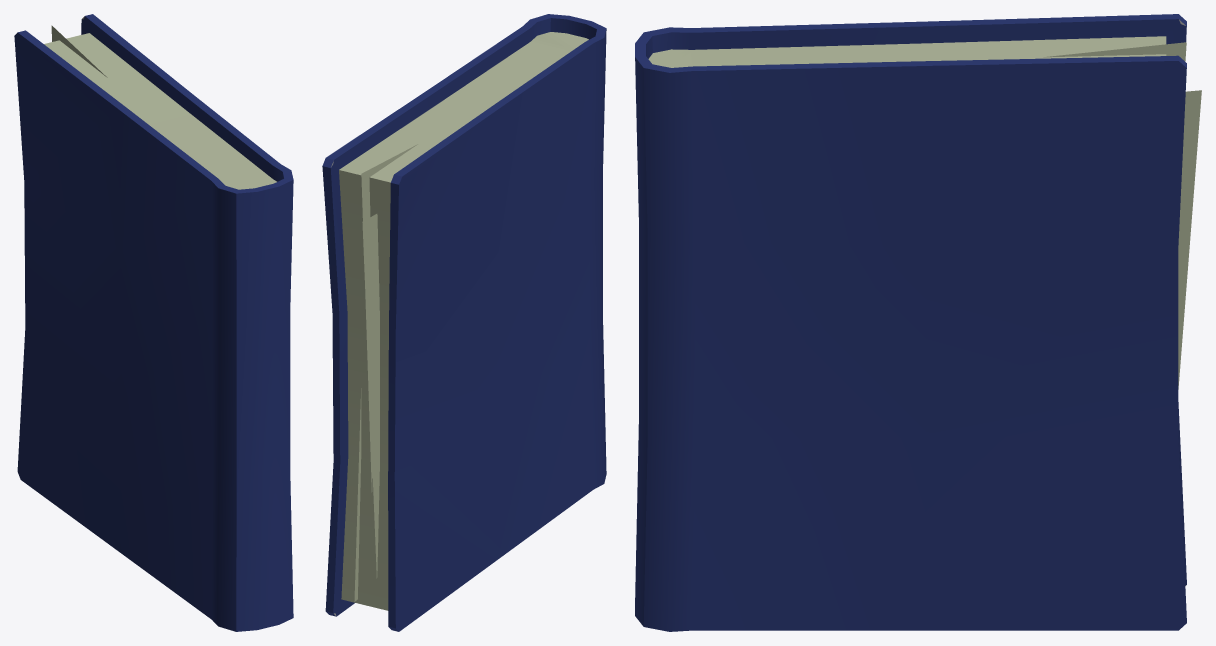
File: blue book.fbx
The picture shows the model from 3 angles, left to right: view 1: azimuth 30°, elevation 25°; view 2: azimuth 150°, elevation 25°; view 3: azimuth 270°, elevation 25°; orthographic projection. The views are drawn at different scales.
Parts seen in each view (by area): view 1: Box004; view 2: Box004; view 3: Box004.
Part boxes in pixels (x1,y1,x2,y2): Box004: (14,14,293,631); Box004: (322,14,606,631); Box004: (635,14,1201,631).
Size of the model in its own units: 3.59 by 20.44 by 18.37.
